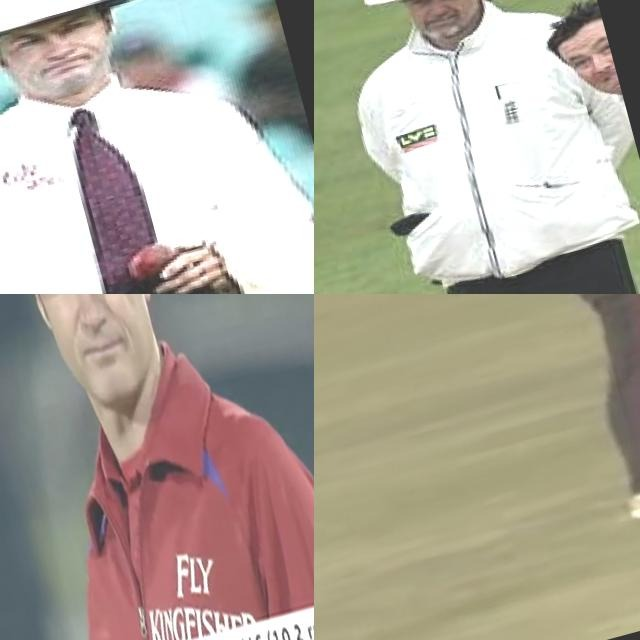No_Action: (0, 294, 314, 640), (314, 0, 640, 294), (457, 294, 640, 557)
Out: (0, 0, 314, 294)
